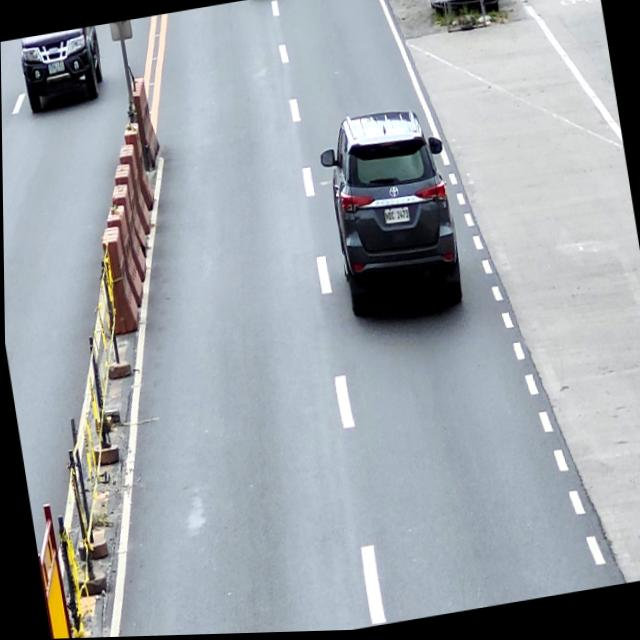Car: (313, 102, 467, 325), (16, 26, 107, 114)
License-Plate: (383, 207, 410, 228), (47, 61, 65, 76)
